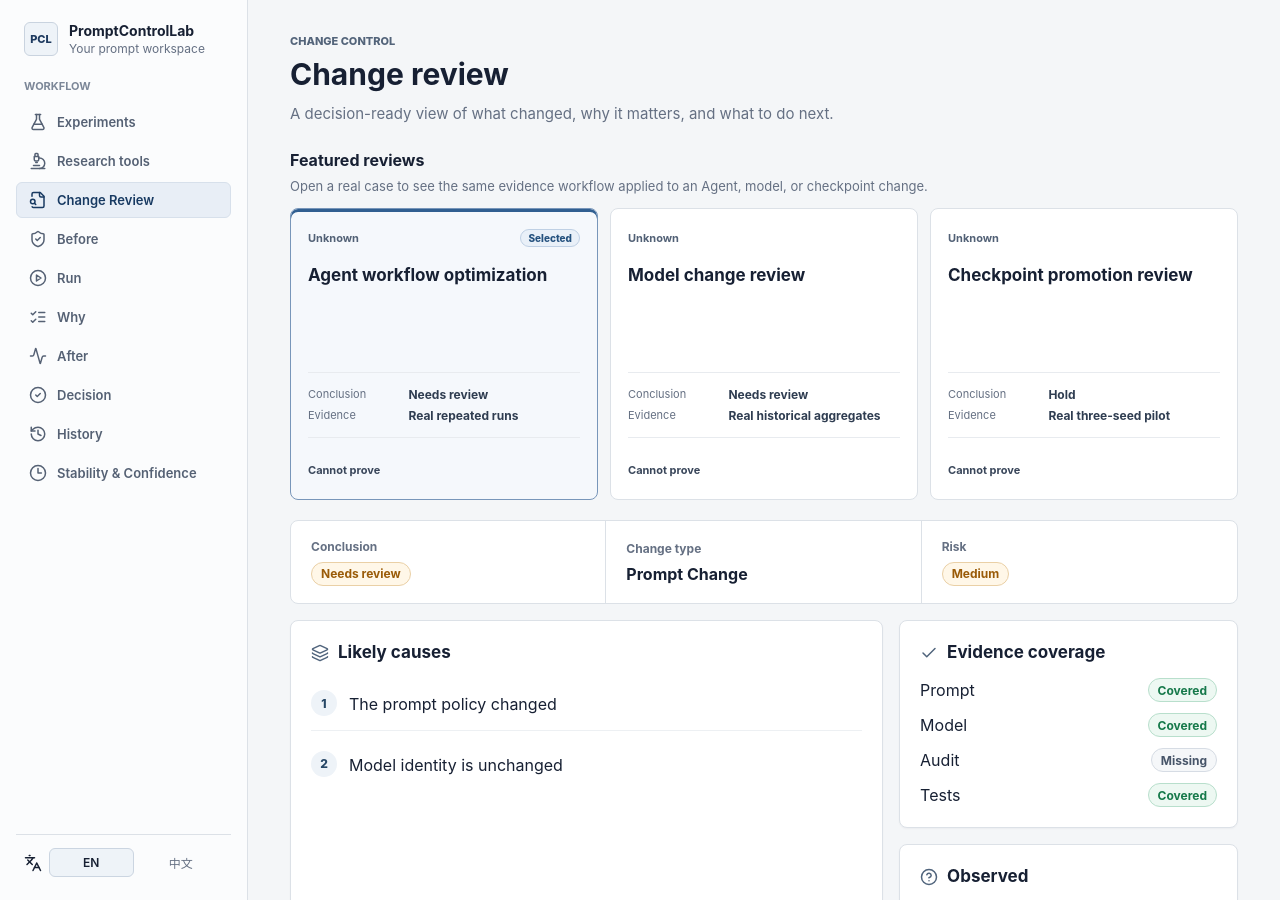
workflow cockpit › shows linked checkpoint score, diagnostic, and gate evidence
The width and height of the screenshot is (1280, 900).
What coordinates should you click on to do the following:
click the button "Checkpoint promotion review"
I would click on:
 (973, 238)
Its box is left=930, top=208, right=1238, bottom=500.
(page scrolled)
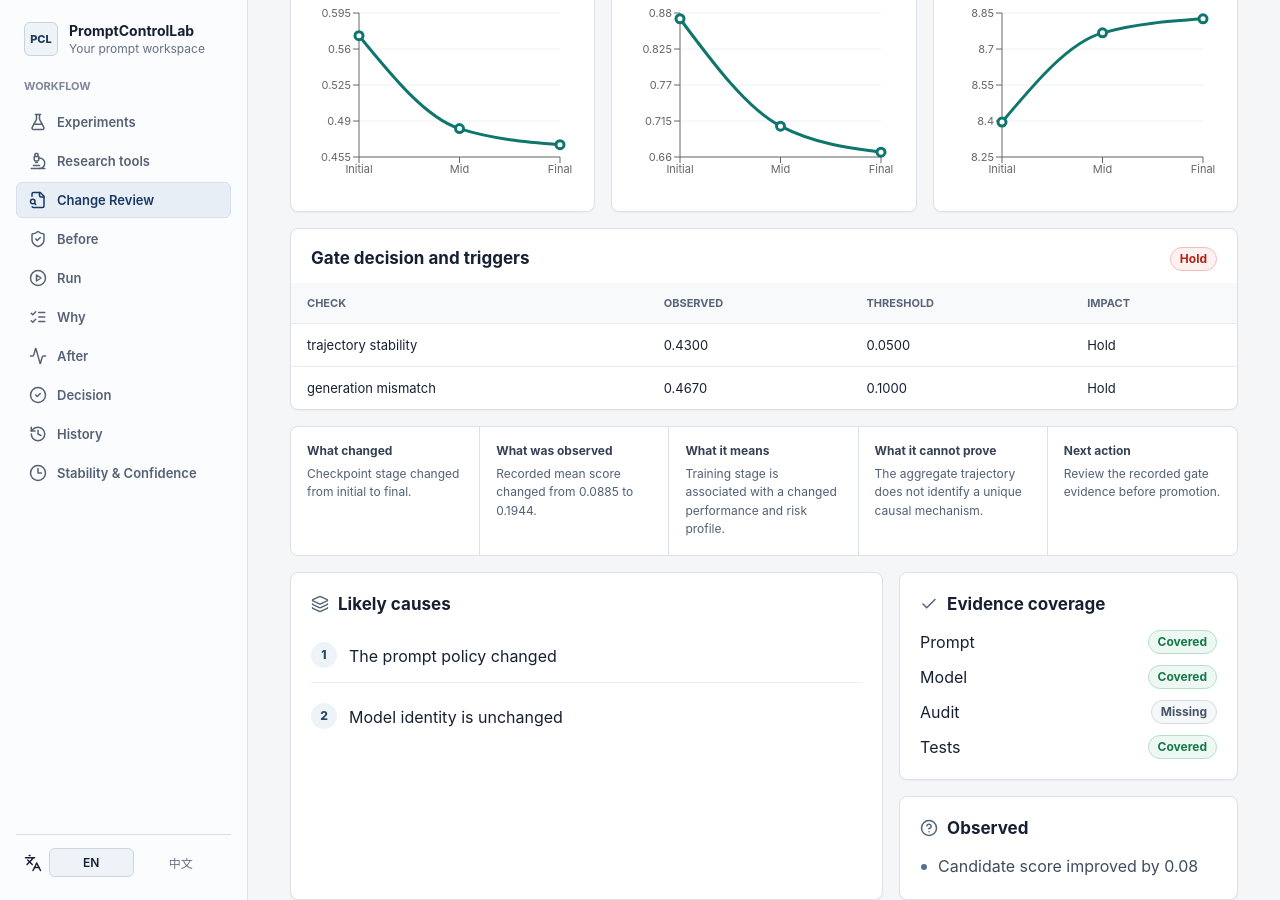
Expected: the text "trajectory stability" is shown, left=291, top=323, right=648, bottom=366
Expected: the text "What changed" is shown, left=307, top=443, right=392, bottom=458
Expected: the text "What it cannot prove" is shown, left=875, top=443, right=996, bottom=458
